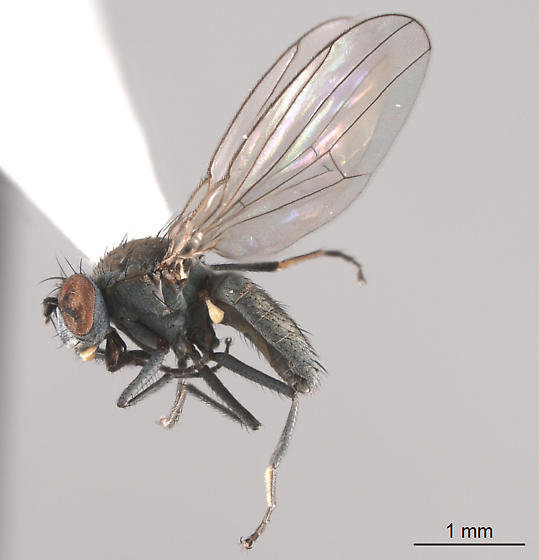Ephydridae: (36, 7, 435, 549)
